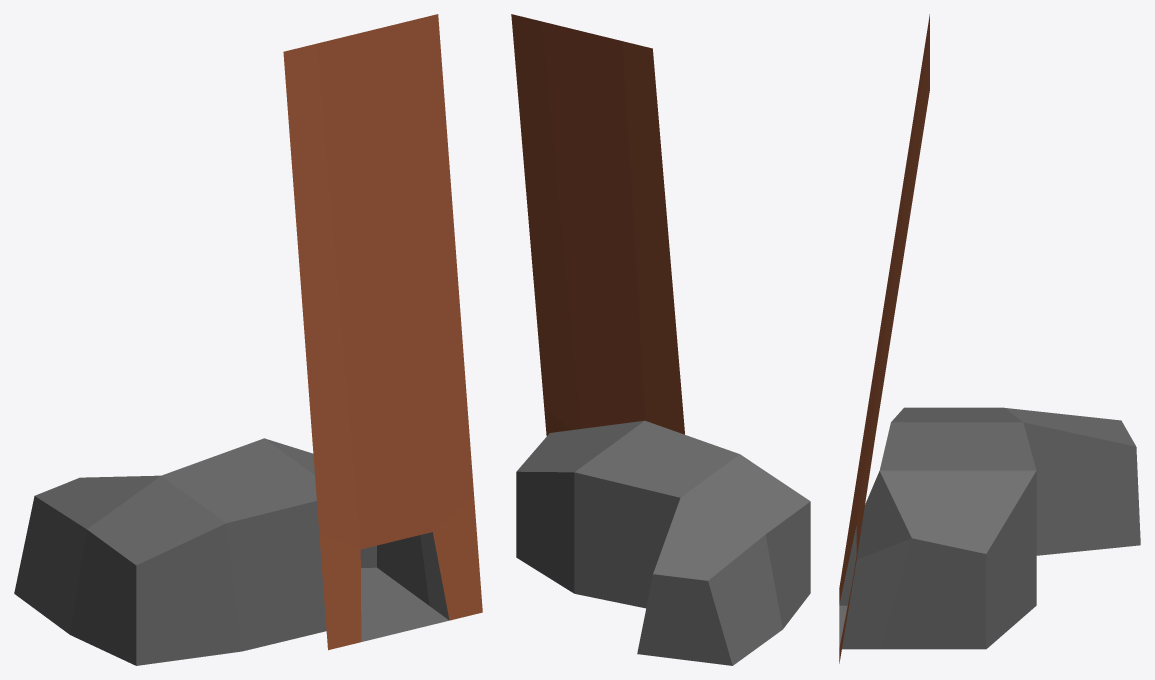
File: cave3.fbx
The picture shows the model from 3 angles, left to right: view 1: azimuth 30°, elevation 25°; view 2: azimuth 150°, elevation 25°; view 3: azimuth 270°, elevation 25°; orthographic projection. The views are drawn at different scales.
Visible parts, largest first — view 1: cave3; view 2: cave3; view 3: cave3.
Part boxes in pixels (<box>): cave3: <box>14,14,482,665</box>; cave3: <box>511,14,810,665</box>; cave3: <box>839,14,1140,663</box>.
Size of the model in its own units: 8.62 by 6.65 by 14.
